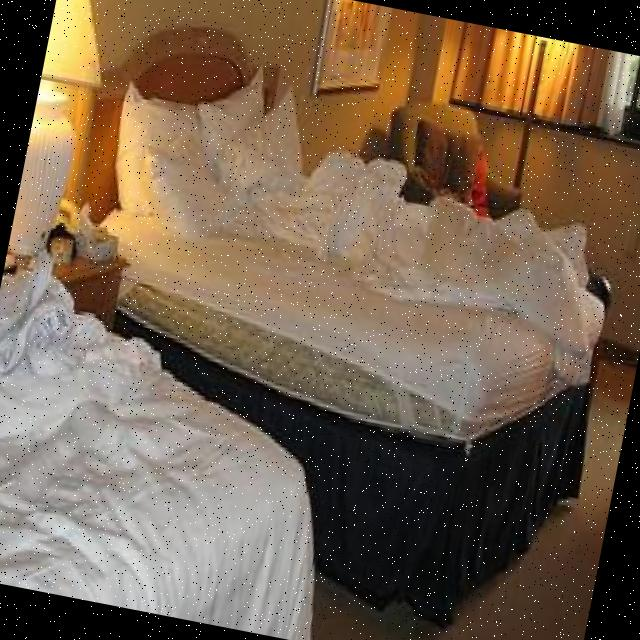Bed: (1, 6, 640, 640)
